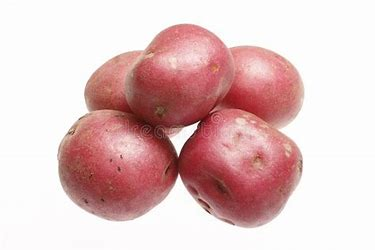Potato: (177, 107, 305, 230), (55, 107, 180, 225), (122, 20, 238, 130), (214, 42, 309, 132), (84, 47, 164, 124)
